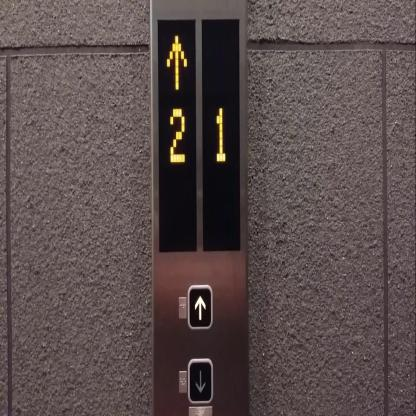down: (188, 359, 212, 403)
led: (154, 14, 198, 255), (200, 16, 242, 254)
up: (188, 284, 212, 329)
